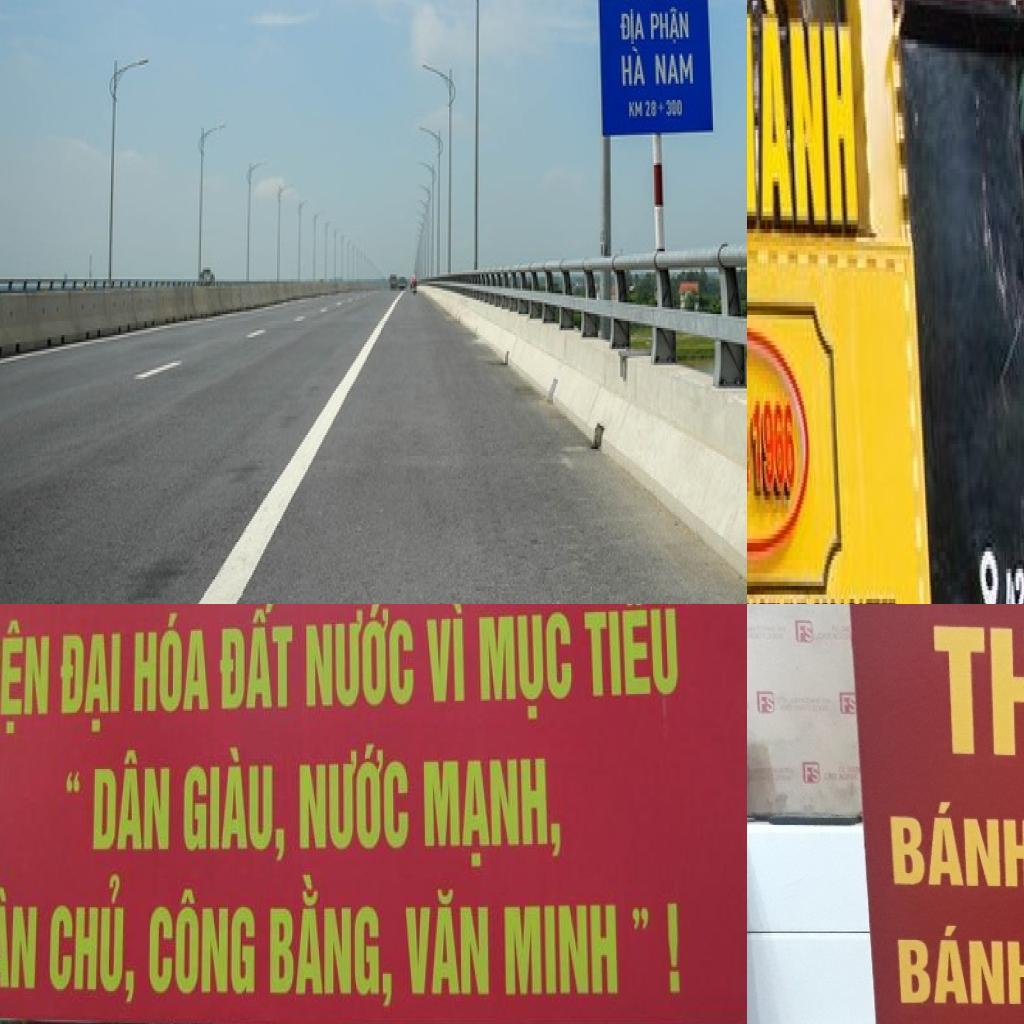text: (747, 0, 860, 242), (418, 745, 574, 870), (265, 871, 397, 1013), (929, 625, 1024, 792), (145, 885, 260, 1008), (886, 793, 1024, 893), (180, 745, 290, 868), (49, 873, 141, 1015), (296, 743, 411, 856), (497, 895, 623, 998), (303, 604, 417, 712), (474, 607, 575, 723), (895, 921, 1024, 1006), (401, 884, 495, 1000), (87, 746, 173, 864), (582, 604, 681, 700), (128, 609, 210, 723), (215, 604, 297, 713), (54, 628, 126, 736), (0, 615, 51, 736), (419, 604, 470, 709), (751, 397, 800, 504), (0, 881, 44, 996), (661, 898, 690, 1004), (649, 4, 693, 48), (652, 51, 698, 91), (620, 46, 649, 90), (620, 7, 649, 46), (1003, 560, 1024, 604), (812, 594, 897, 604), (60, 766, 86, 796), (628, 902, 652, 931), (667, 97, 685, 121), (794, 620, 814, 640), (757, 693, 776, 714), (839, 693, 858, 714), (802, 764, 821, 784), (645, 97, 660, 121), (628, 100, 644, 121)
